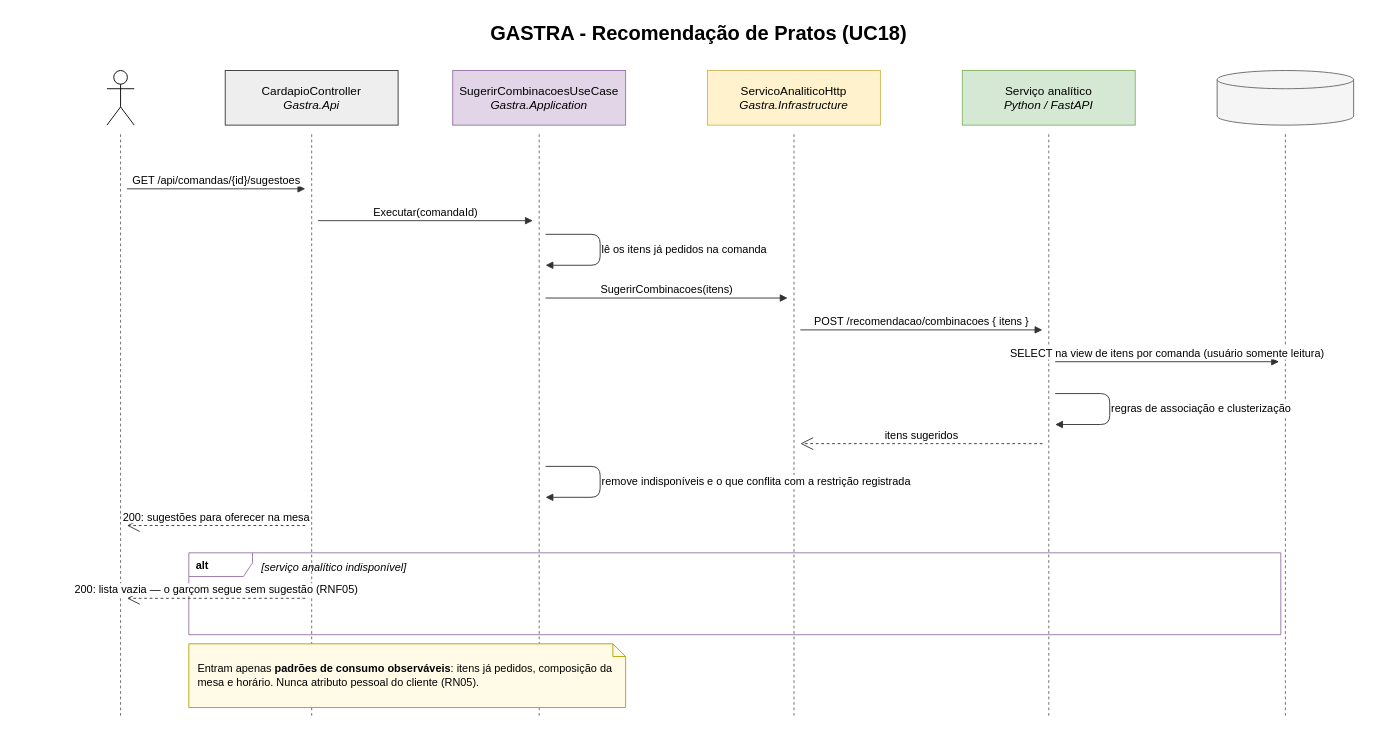
Image size: 1396x733. Some labels were removed from this diagram. The centre of each missing label's shape, as x and y in pixels:
"Garçom" goes at (x=120, y=97).
"MySQL (views)" goes at (x=1285, y=97).
